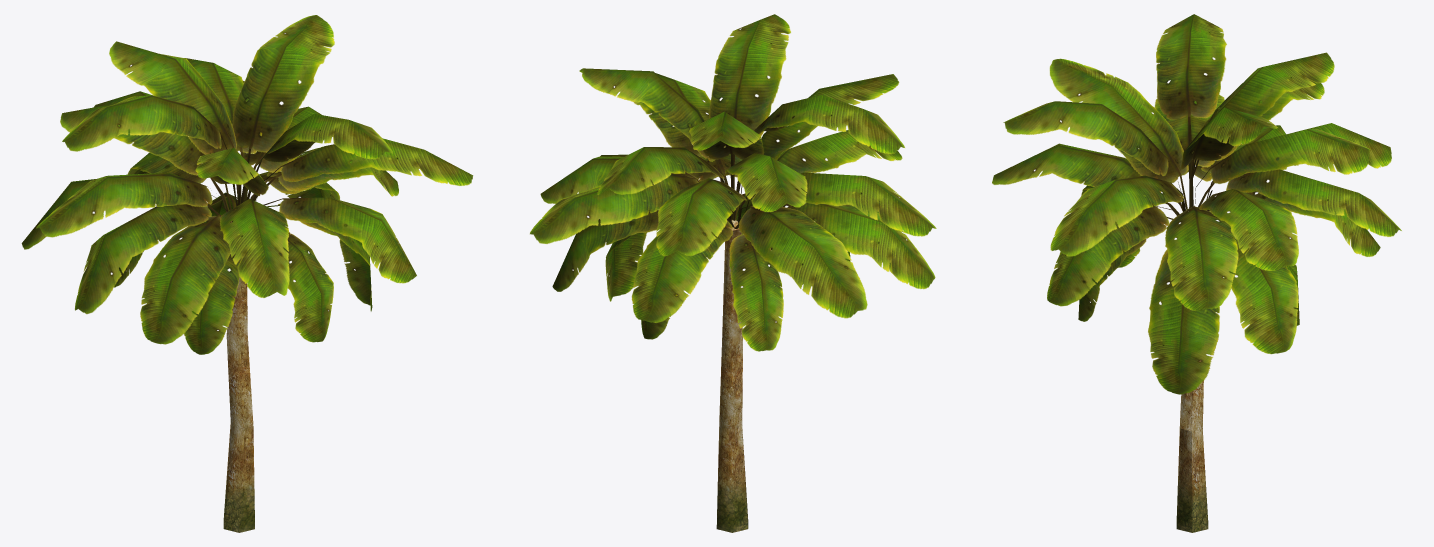
File: ph_tree7.glb
3 views of the same model, side by side, from view 1: azimuth 30°, elevation 25°; view 2: azimuth 150°, elevation 25°; view 3: azimuth 270°, elevation 25° (orthographic).
Visible parts, largest first — view 1: ph_tree7-col; view 2: ph_tree7-col; view 3: ph_tree7-col.
Boxes of the visible parts, <box> form: ph_tree7-col: <box>21,15,473,532</box>; ph_tree7-col: <box>530,14,936,532</box>; ph_tree7-col: <box>992,14,1401,532</box>.
Bounding box in the file's own units: 6.66 × 7.4 × 6.4.
2 materials, 2 textured.
